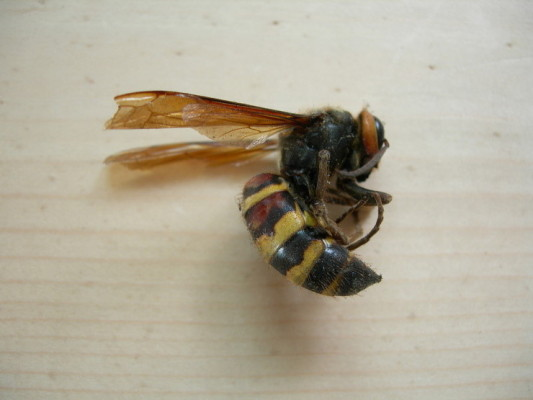asian_giant_hornet: (236, 106, 388, 298)
